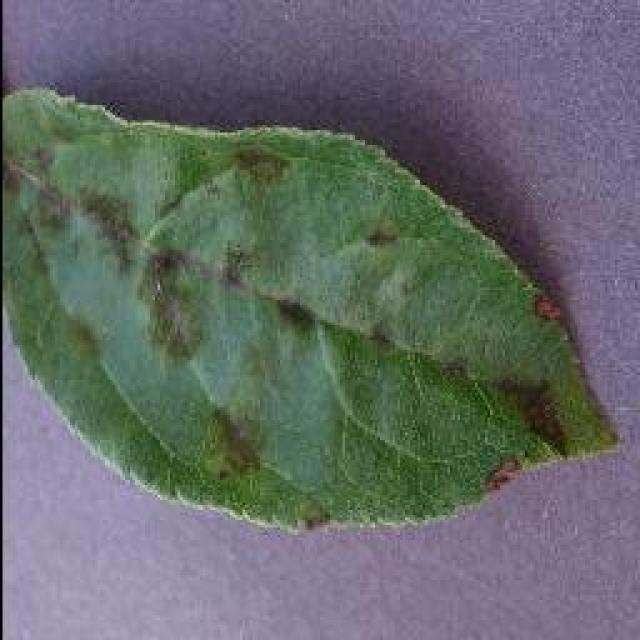apple scab disease: (0, 83, 620, 535)
